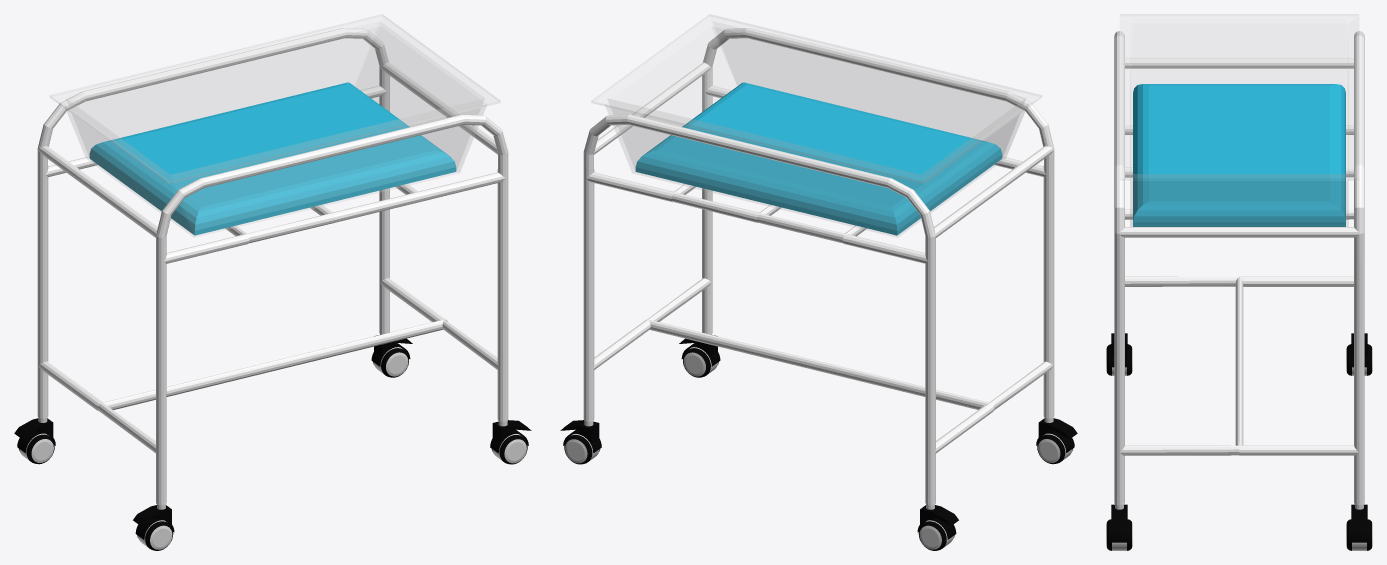
3 views of the same model, side by side, from view 1: azimuth 30°, elevation 25°; view 2: azimuth 150°, elevation 25°; view 3: azimuth 270°, elevation 25° (orthographic).
Parts seen in each view (by area): view 1: CC-1a; view 2: CC-1a; view 3: CC-1a.
Boxes of the visible parts, x1,y1,x2,y2 form: CC-1a: [14, 14, 531, 550]; CC-1a: [560, 14, 1077, 550]; CC-1a: [1106, 14, 1372, 550].
Bounding box in the file's own units: 85.77 × 76 × 50.05.
